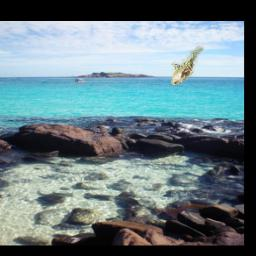Cuckoo: (170, 45, 205, 86)
